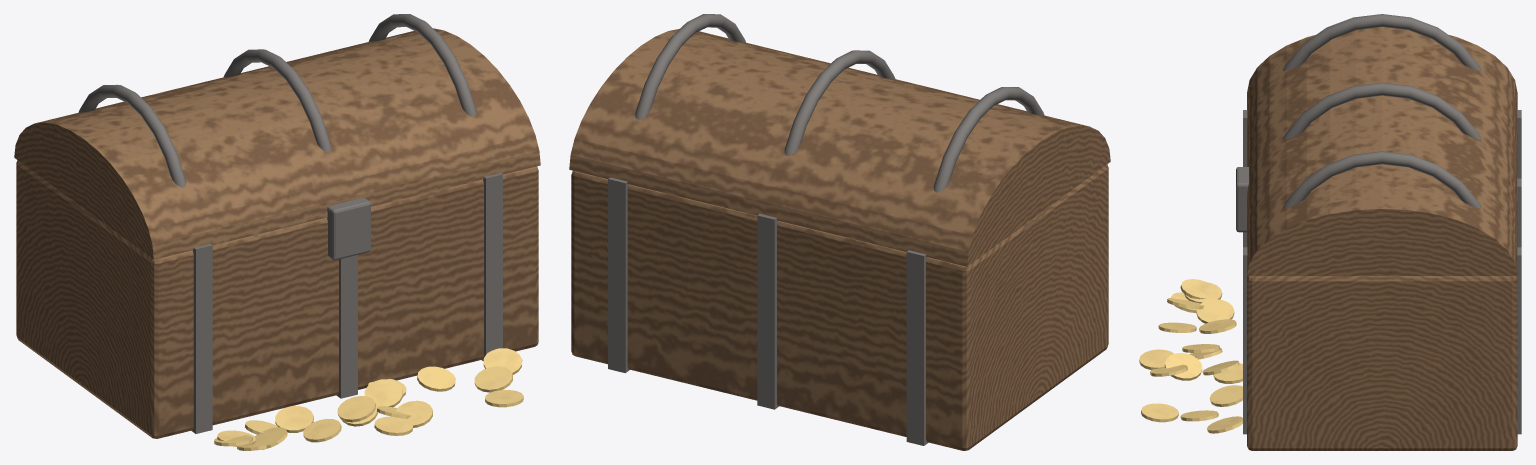
File: chest.glb
3 renders of one model, left to right at view 1: azimuth 30°, elevation 25°; view 2: azimuth 150°, elevation 25°; view 3: azimuth 270°, elevation 25°, orthographic. The views are drawn at different scales.
Visible parts, largest first — view 1: chest; view 2: chest; view 3: chest.
Boxes of the visible parts, x1,y1,x2,y2 form: chest: (14,14,540,450); chest: (569,14,1110,450); chest: (1139,14,1521,450).
Size of the model in its own units: 8 by 5.78 by 7.06.
1 material, 1 textured.
